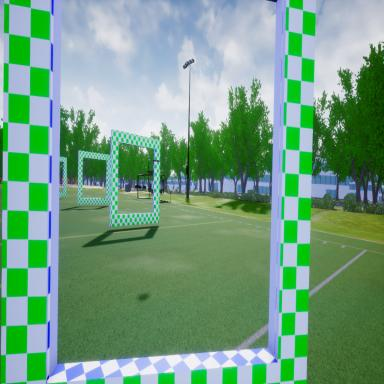gate: (0, 0, 317, 384), (110, 128, 162, 226), (78, 147, 111, 208)
